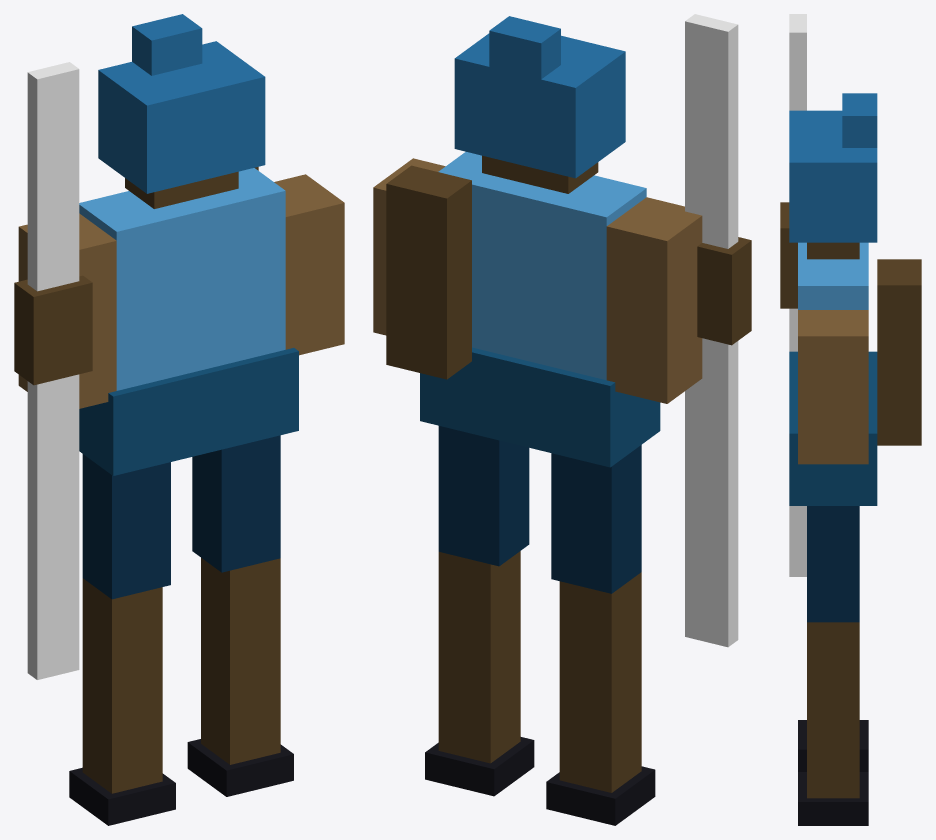
File: archer.gltf
3 renders of one model, left to right at view 1: azimuth 30°, elevation 25°; view 2: azimuth 150°, elevation 25°; view 3: azimuth 270°, elevation 25°, orthographic. The views are drawn at different scales.
Visible parts, largest first — view 1: 11_torso, 14_hood, 07_tunic_skirt, 02_left_shin, 06_bow_lower_limb, 03_right_shin, 15_bow_upper_limb, 04_left_thigh, 05_right_thigh, 09_right_arm, 12_bow_grip, 10_left_arm_on_the_bow (+4 smaller); view 2: 11_torso, 14_hood, 07_tunic_skirt, 10_left_arm_on_the_bow, 08_quiver, 02_left_shin, 03_right_shin, 06_bow_lower_limb, 15_bow_upper_limb, 04_left_thigh, 05_right_thigh, 12_bow_grip (+5 smaller); view 3: 09_right_arm, 14_hood, 03_right_shin, 08_quiver, 05_right_thigh, 07_tunic_skirt, 11_torso, 01_right_boot, 16_hood_point, 15_bow_upper_limb, 06_bow_lower_limb, 12_bow_grip (+2 smaller).
Boxes of the visible parts, x1,y1,x2,y2 form: 11_torso: (79, 168, 285, 390); 14_hood: (98, 41, 265, 193); 07_tunic_skirt: (79, 348, 298, 475); 02_left_shin: (82, 578, 162, 793); 06_bow_lower_limb: (27, 374, 79, 679); 03_right_shin: (201, 558, 280, 764); 15_bow_upper_limb: (27, 62, 79, 291); 04_left_thigh: (82, 454, 170, 599); 05_right_thigh: (192, 435, 280, 572); 09_right_arm: (274, 174, 344, 355); 12_bow_grip: (14, 275, 92, 385); 10_left_arm_on_the_bow: (18, 213, 116, 408); 11_torso: (438, 152, 646, 380); 14_hood: (454, 33, 625, 178); 07_tunic_skirt: (420, 347, 660, 467); 10_left_arm_on_the_bow: (606, 197, 702, 403); 08_quiver: (386, 165, 471, 379); 02_left_shin: (559, 572, 641, 792); 03_right_shin: (438, 551, 520, 763); 06_bow_lower_limb: (685, 338, 738, 647); 15_bow_upper_limb: (685, 14, 738, 248); 04_left_thigh: (551, 445, 641, 593); 05_right_thigh: (438, 426, 529, 566); 12_bow_grip: (697, 237, 751, 345); 09_right_arm: (798, 310, 868, 464); 14_hood: (789, 110, 877, 242); 03_right_shin: (807, 622, 859, 798); 08_quiver: (877, 259, 921, 445); 05_right_thigh: (807, 506, 859, 622); 07_tunic_skirt: (789, 351, 877, 505); 11_torso: (798, 242, 868, 309); 01_right_boot: (798, 772, 868, 825); 16_hood_point: (842, 93, 877, 147); 15_bow_upper_limb: (789, 14, 806, 110); 06_bow_lower_limb: (789, 308, 806, 576); 12_bow_grip: (780, 202, 797, 308).
Bounding box in the file's own units: 0.5938 × 1.36 × 0.25.
